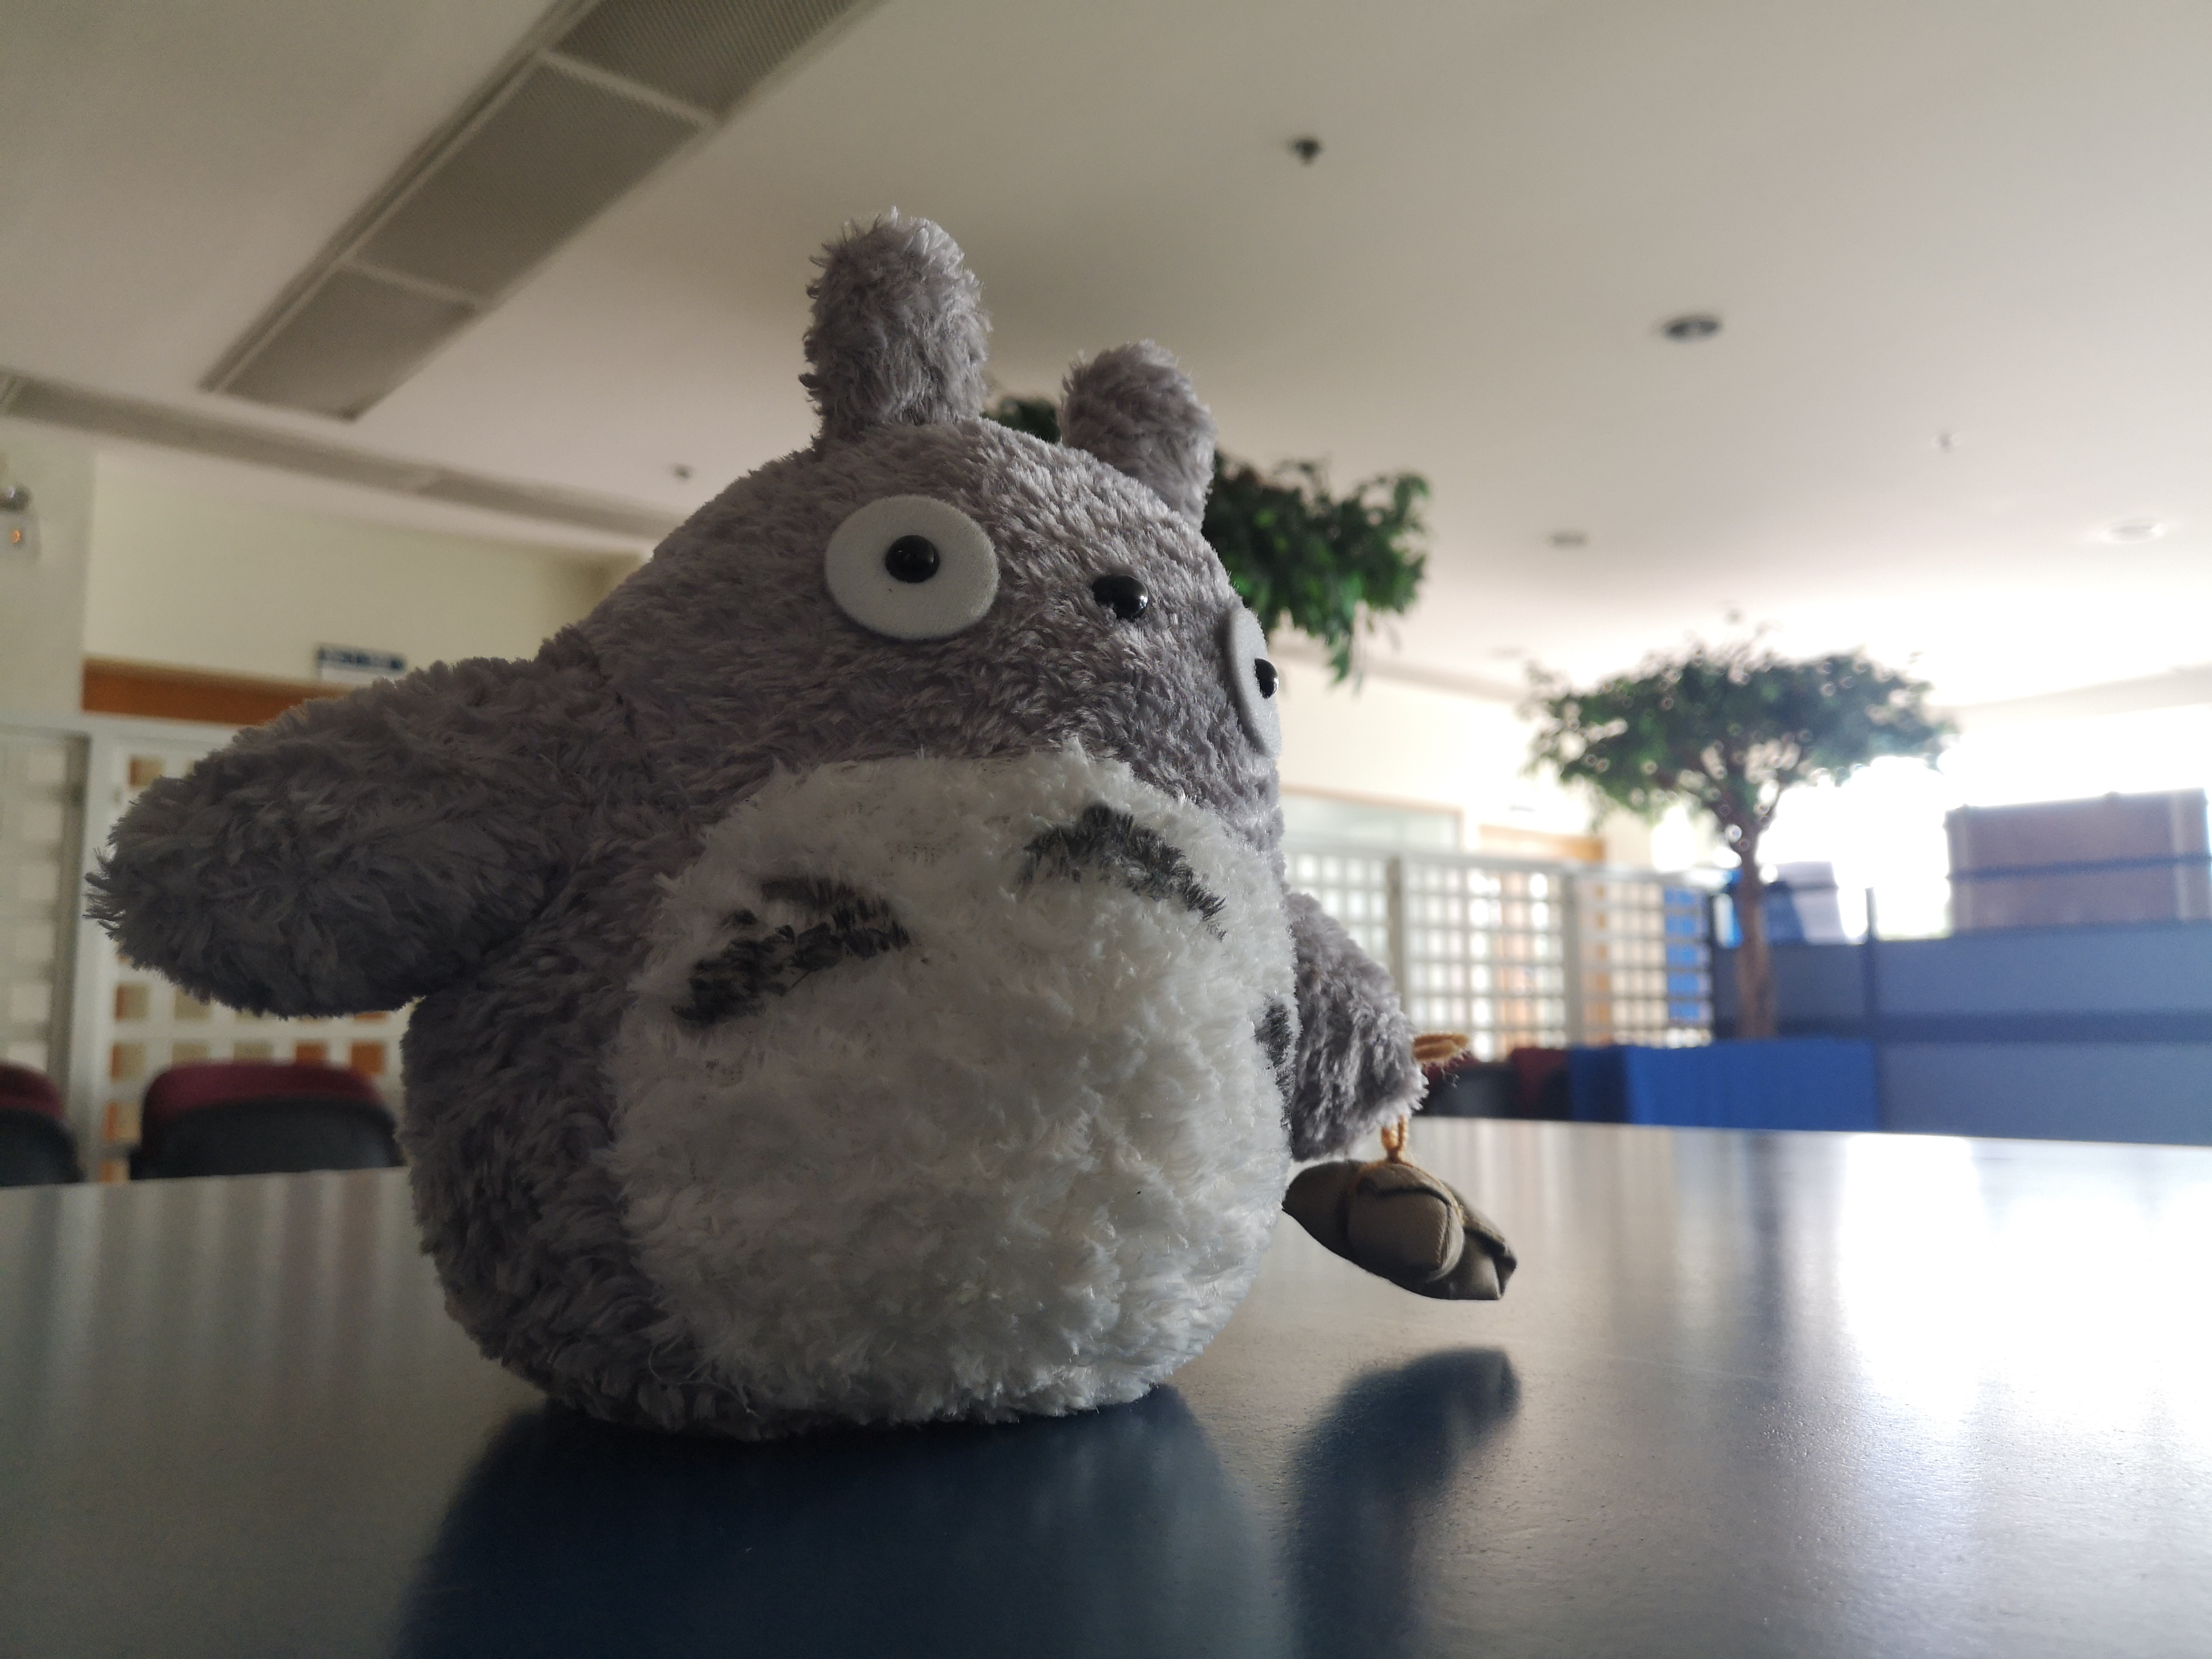totoro: (80, 195, 1526, 1462)
